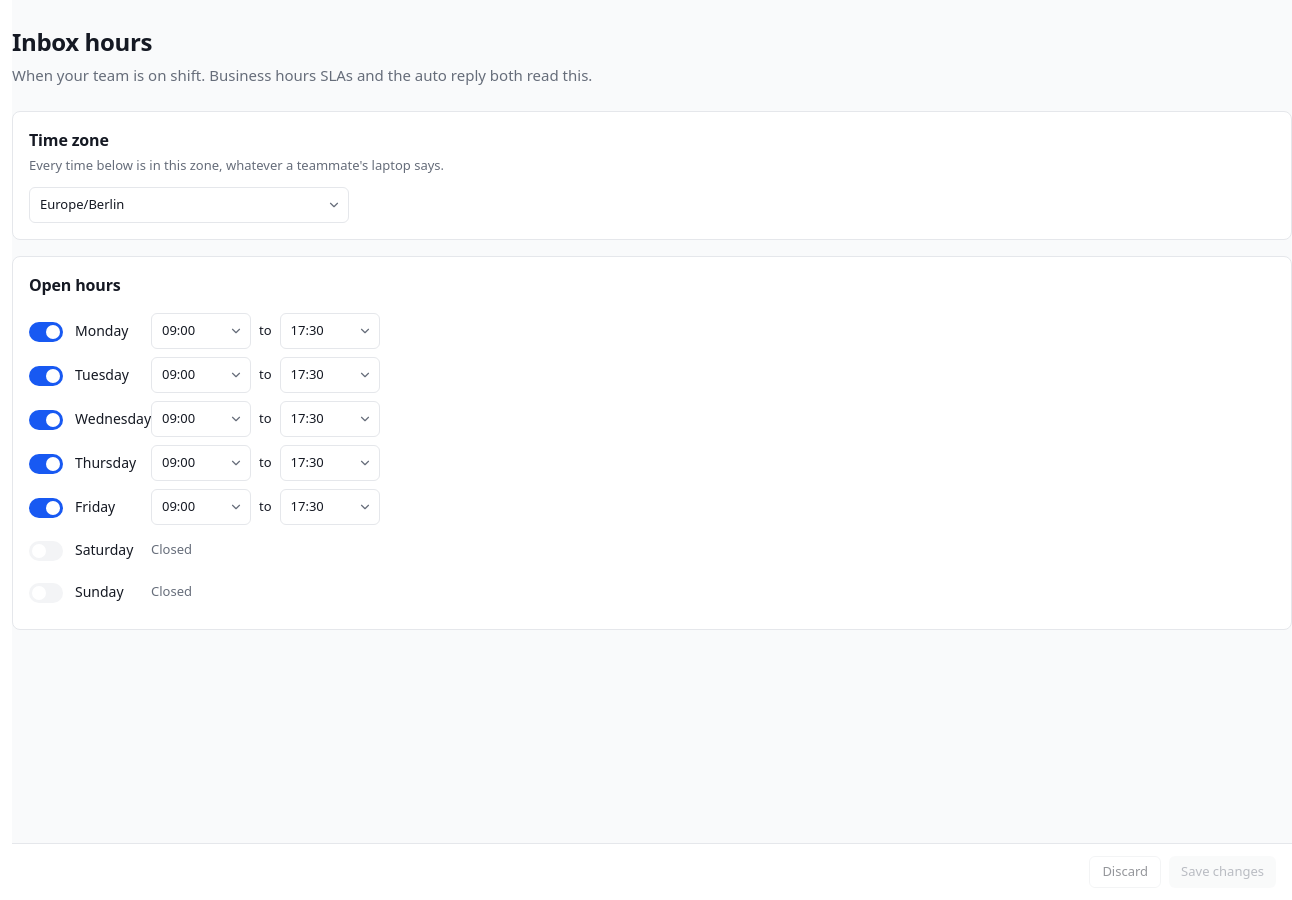
it: inbox hours › flags a day whose closing time is not after its opening time
Select "18:00" in the dropdown named "Monday opens" at point(201, 331), box [151, 313, 251, 349]
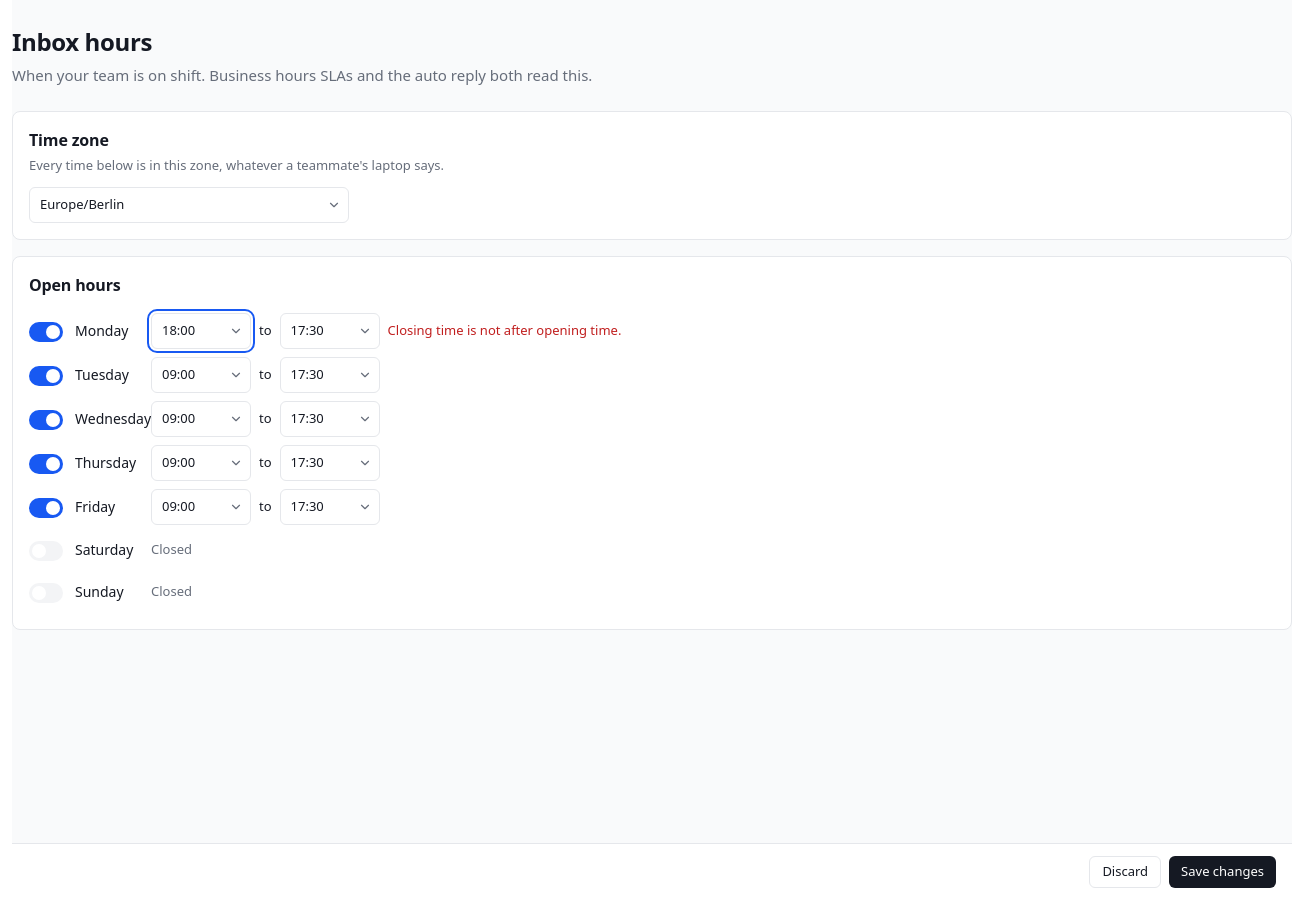
Expected: the text "Closing time is not after opening time." is shown, [388, 321, 621, 341]
